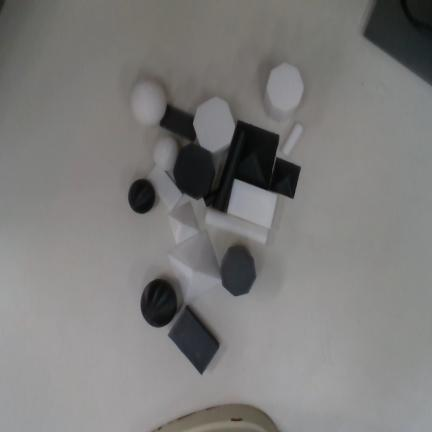Cilindro: (212, 123, 250, 213), (205, 208, 268, 245), (281, 122, 304, 156), (203, 189, 216, 207)
Esfera: (140, 279, 177, 328), (130, 78, 167, 125), (128, 179, 155, 214), (152, 136, 179, 170)
Paralelepipedo: (168, 305, 220, 376), (226, 179, 278, 230), (146, 163, 182, 212), (159, 104, 196, 142)
Piramide: (168, 230, 221, 302), (235, 120, 280, 191), (167, 200, 201, 245), (269, 157, 301, 200)
Prisma_hexagonal: (193, 96, 236, 155), (263, 62, 304, 122), (173, 142, 215, 199), (221, 246, 256, 296)
